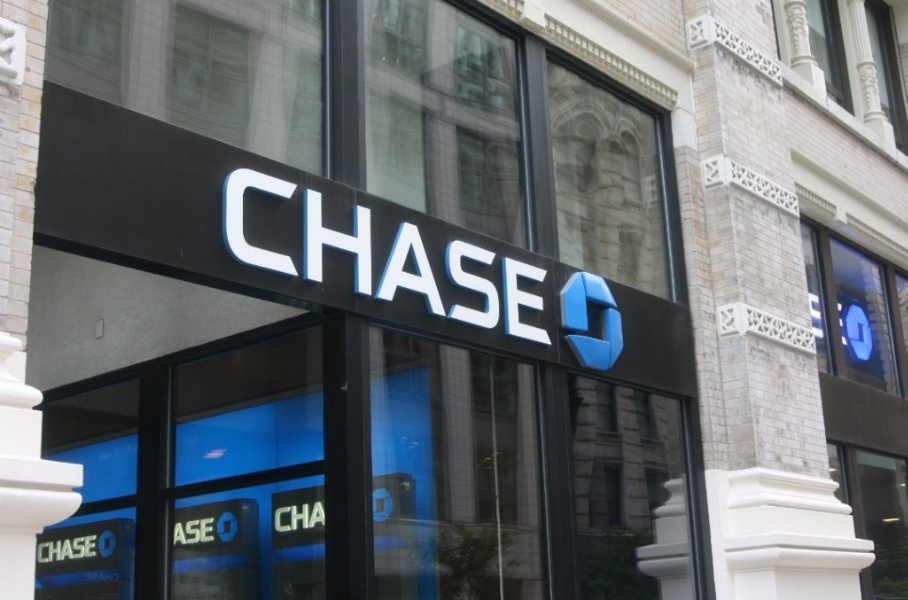text: (241, 160, 256, 348), (257, 160, 272, 348), (273, 160, 288, 348), (289, 160, 304, 348), (305, 160, 320, 348), (321, 160, 336, 348), (337, 160, 352, 348), (353, 160, 368, 348), (369, 160, 384, 348), (385, 160, 400, 348), (401, 160, 416, 348), (417, 160, 432, 348), (433, 160, 448, 348), (449, 160, 464, 348), (465, 160, 480, 348), (481, 160, 496, 348), (497, 160, 512, 348), (513, 160, 528, 348), (529, 160, 544, 348), (227, 160, 240, 348), (545, 160, 553, 348), (289, 500, 304, 536), (305, 500, 320, 536), (274, 500, 288, 536), (177, 518, 192, 546), (193, 518, 208, 546), (49, 535, 64, 563), (65, 535, 80, 563), (81, 535, 96, 563), (38, 535, 48, 563), (81, 568, 96, 584), (97, 568, 112, 584), (321, 500, 327, 536), (209, 518, 215, 546), (113, 568, 123, 584), (173, 518, 176, 546)
